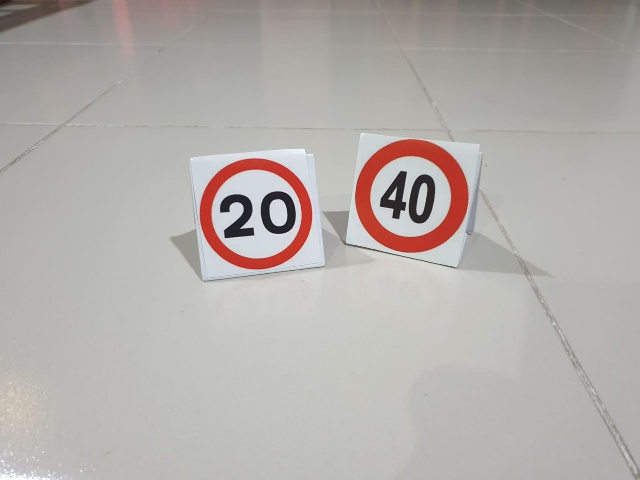Limit 20: (195, 156, 316, 270)
Limit 40: (355, 139, 463, 257)
